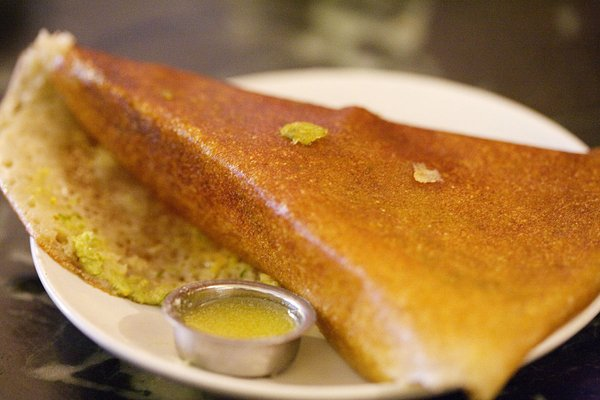soup: (6, 48, 600, 391)
sushi: (162, 279, 317, 378)
